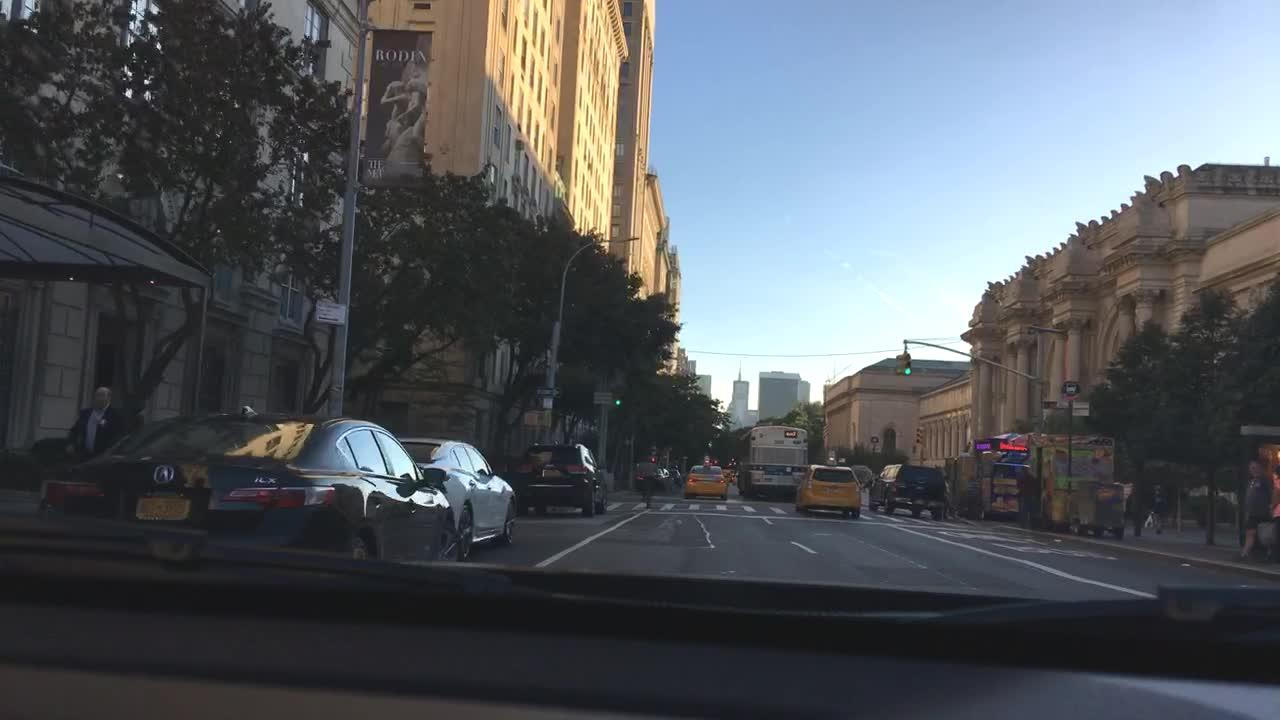acura: (148, 461, 180, 489)
